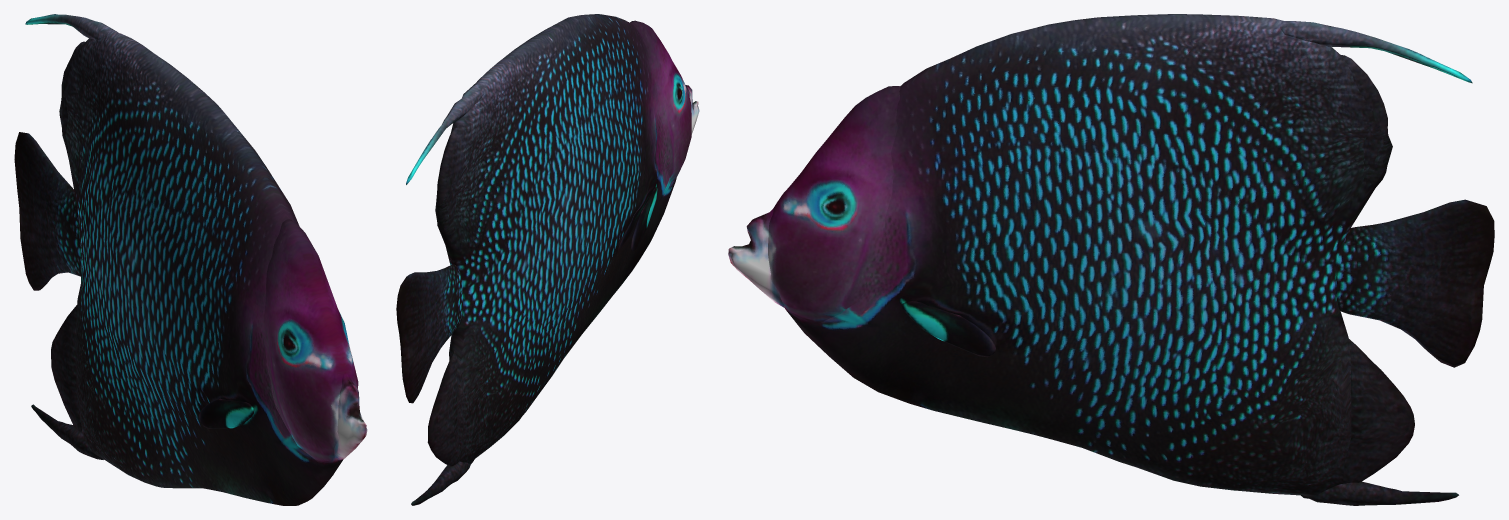
File: fishobj.obj
3 views of the same model, side by side, from view 1: azimuth 30°, elevation 25°; view 2: azimuth 150°, elevation 25°; view 3: azimuth 270°, elevation 25° (orthographic). The views are drawn at different scales.
Visible parts, largest first — view 1: model_Mesh; view 2: model_Mesh; view 3: model_Mesh.
Part boxes in pixels (box(x1,y1,x2,y2)): model_Mesh: box(14, 14, 367, 505); model_Mesh: box(396, 14, 699, 505); model_Mesh: box(728, 14, 1494, 505).
Bounding box in the file's own units: 1.44 × 6.86 × 9.71.
1 material, 1 textured.
